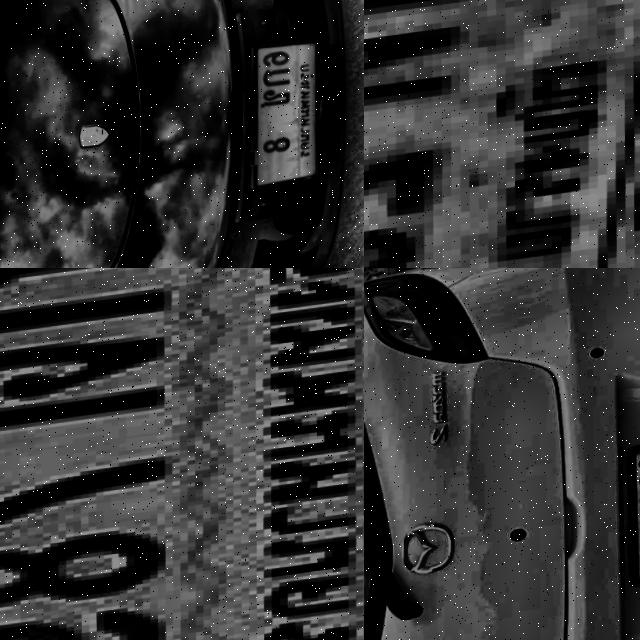license-plate: (0, 268, 364, 640), (364, 0, 640, 268), (231, 34, 341, 213), (612, 439, 640, 604)
